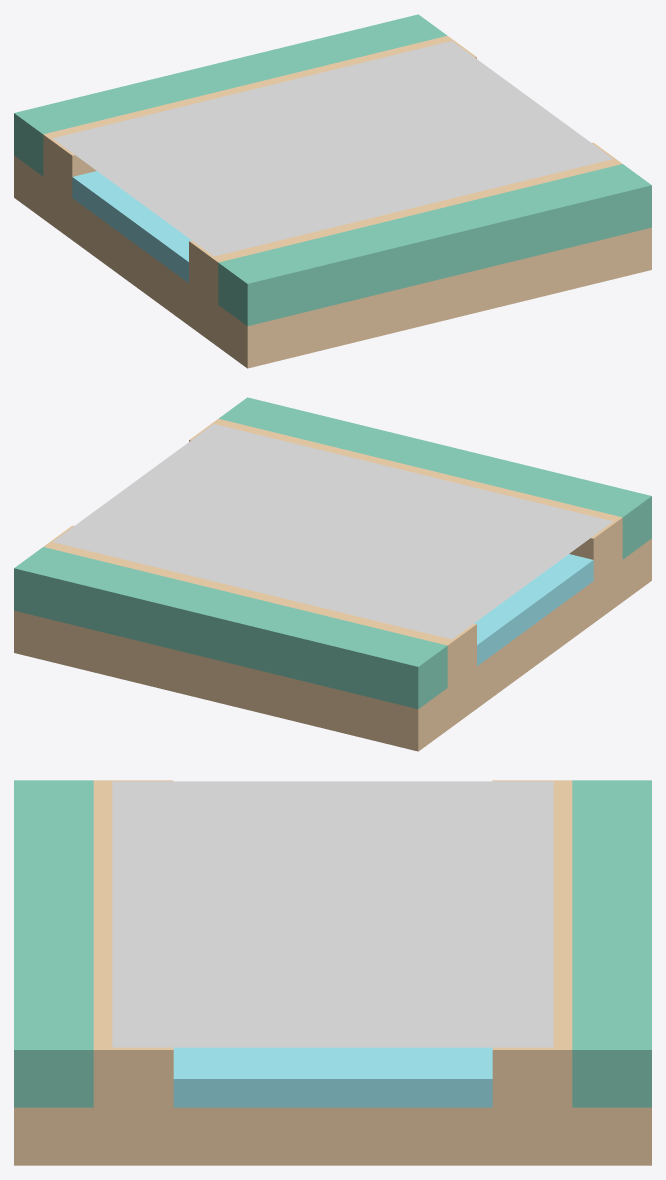
File: river.gltf
3 views of the same model, one above another, from view 1: azimuth 30°, elevation 25°; view 2: azimuth 150°, elevation 25°; view 3: azimuth 270°, elevation 25° (orthographic). The views are drawn at different scales.
Visible parts, largest first — view 1: tile_riverStraight, COL; view 2: tile_riverStraight, COL; view 3: tile_riverStraight, COL.
Boxes of the visible parts, bbox=[...] form: tile_riverStraight: bbox=[14, 14, 651, 368]; COL: bbox=[53, 41, 612, 256]; tile_riverStraight: bbox=[14, 397, 651, 751]; COL: bbox=[53, 424, 612, 639]; tile_riverStraight: bbox=[14, 780, 651, 1165]; COL: bbox=[112, 781, 553, 1047].
Bounding box in the file's own units: 1 × 0.201 × 1.
